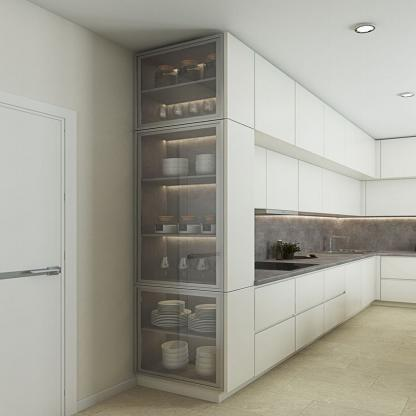Cupboard: (137, 33, 224, 405)
